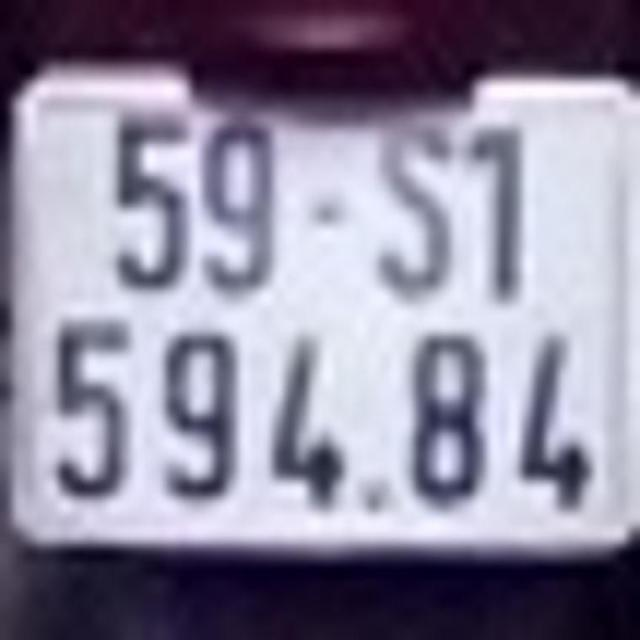1: (468, 118, 532, 305)
4: (516, 327, 597, 514), (269, 327, 347, 514)
5: (51, 312, 136, 501), (111, 109, 192, 292)
8: (409, 325, 487, 508)
9: (160, 325, 238, 502), (200, 115, 276, 296)
S: (376, 126, 456, 299)
